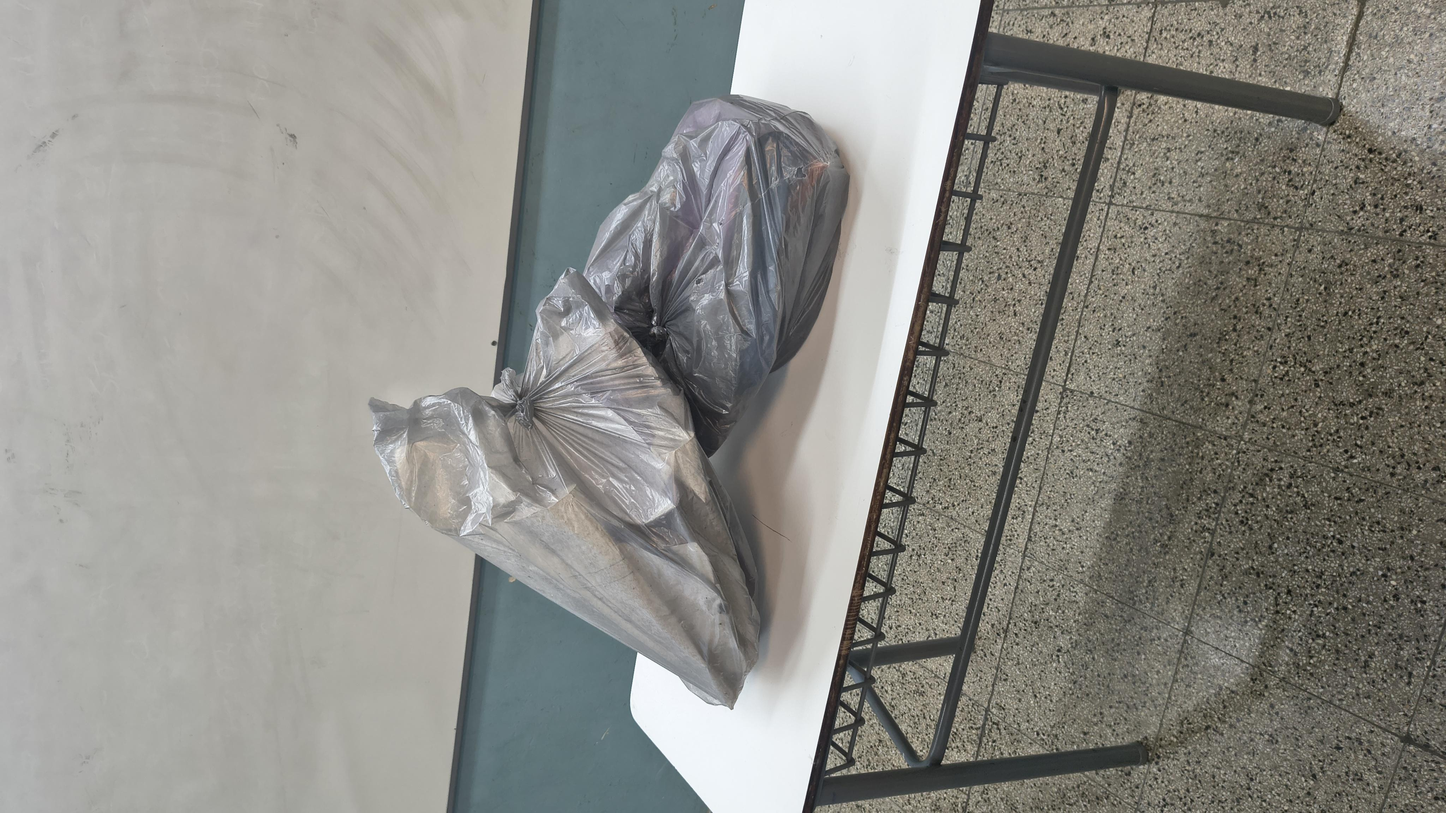Garbage: (151, 202, 1004, 480), (596, 286, 1305, 480)
